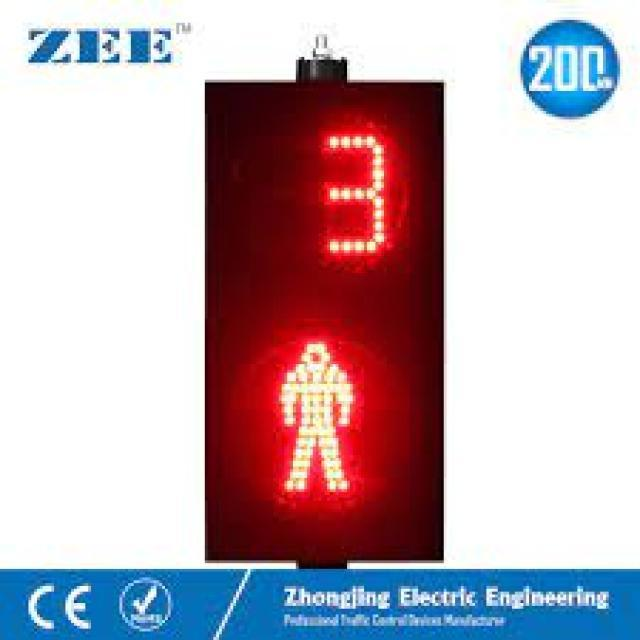red_light: (219, 103, 420, 536)
